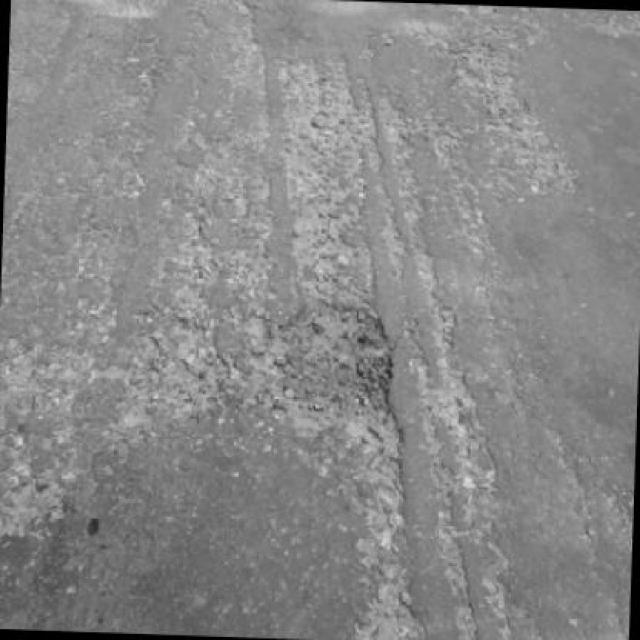pothole: (266, 296, 412, 453)
